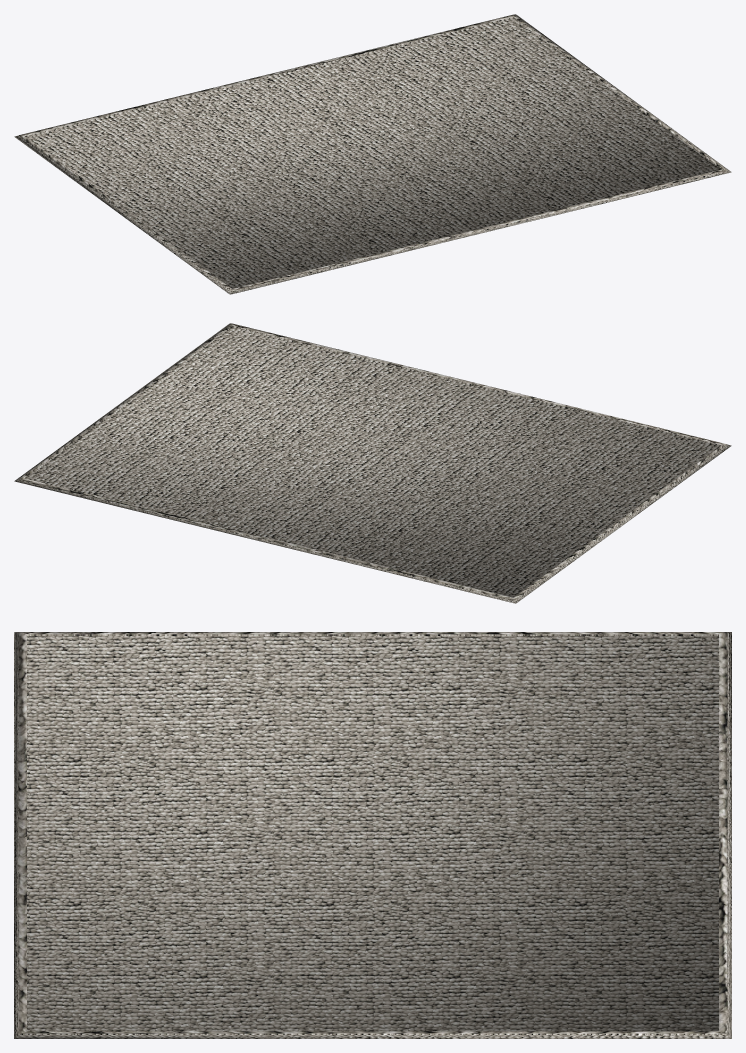
Rendered from alfombra.fbx.
3 views of the same model, one above another, from view 1: azimuth 30°, elevation 25°; view 2: azimuth 150°, elevation 25°; view 3: azimuth 270°, elevation 25° (orthographic). The views are drawn at different scales.
Visible parts, largest first — view 1: Plane.001; view 2: Plane.001; view 3: Plane.001.
Part boxes in pixels (x1,y1,x2,y2): Plane.001: [14, 14, 731, 294]; Plane.001: [14, 323, 731, 603]; Plane.001: [14, 632, 731, 1038].
Size of the model in its own units: 334 by 1.49 by 249.
1 material, 1 textured.
